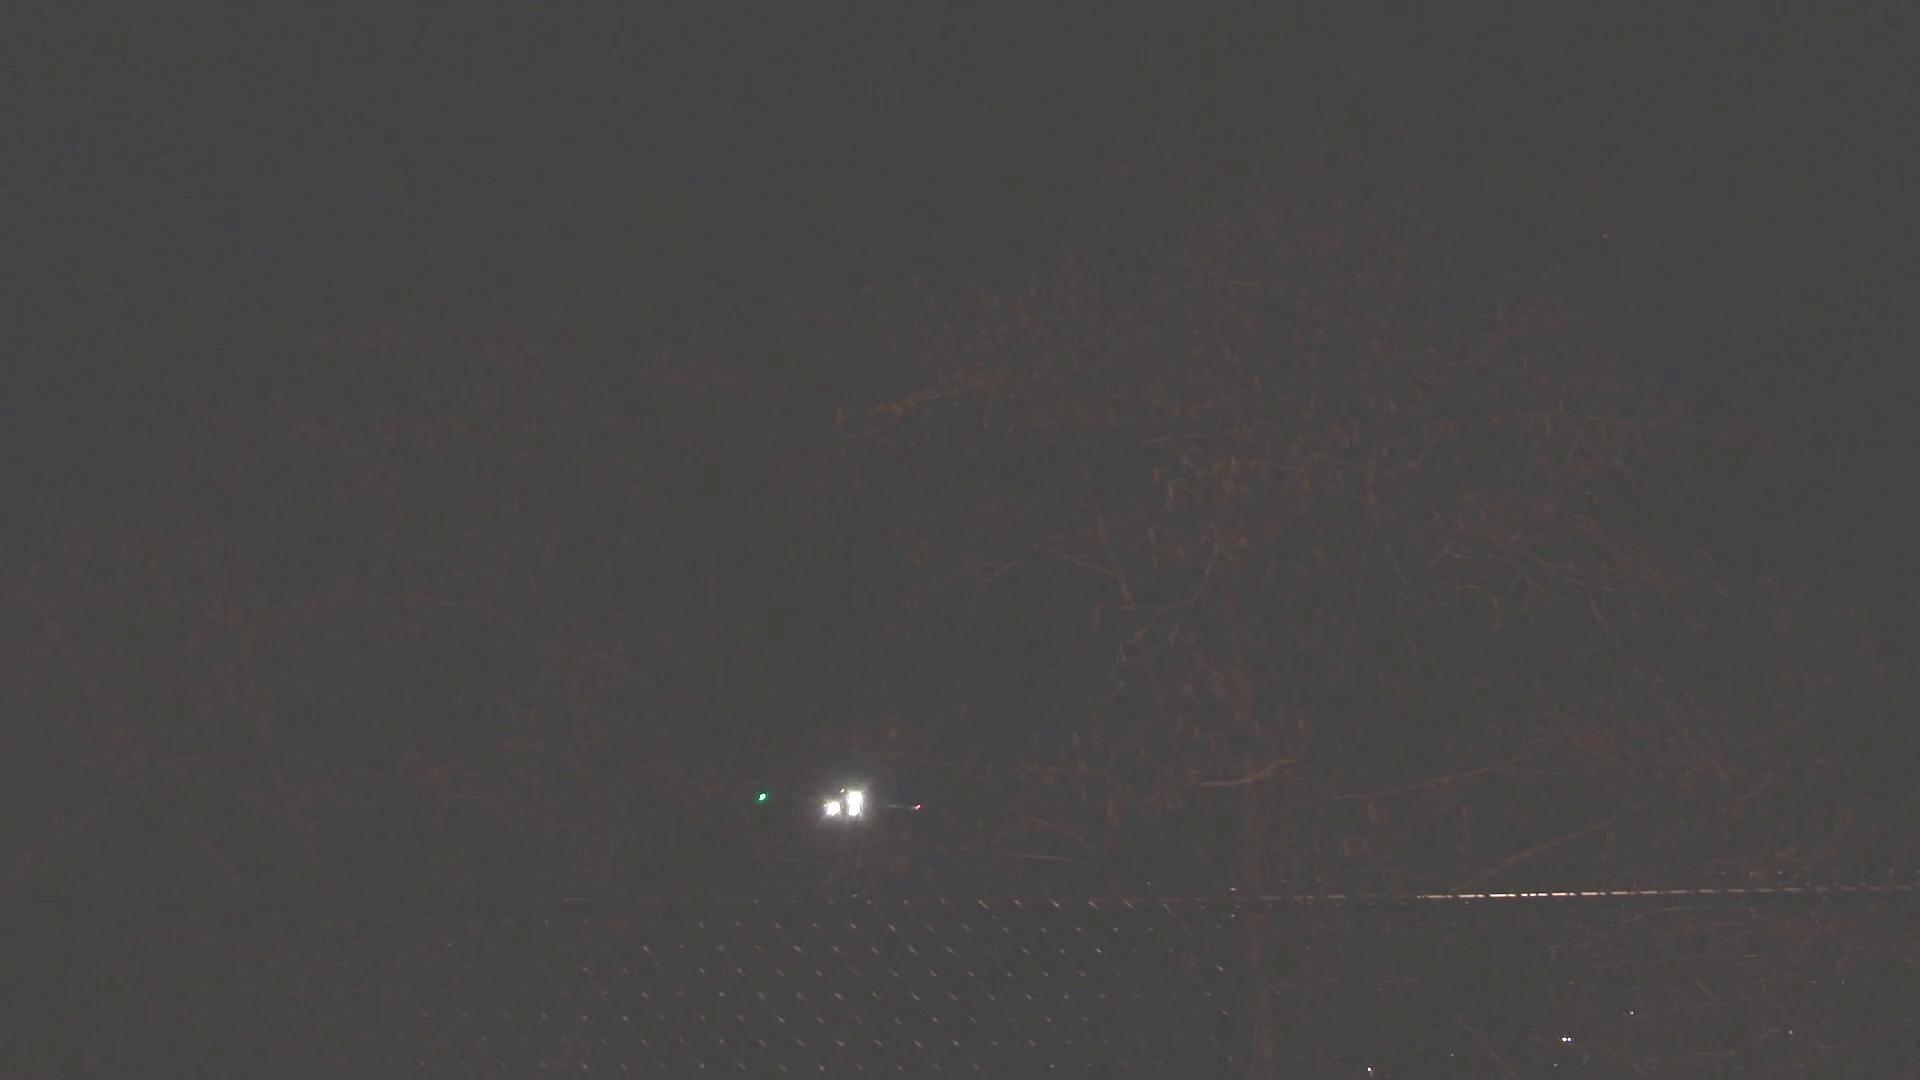Plane: (742, 775, 963, 831)
